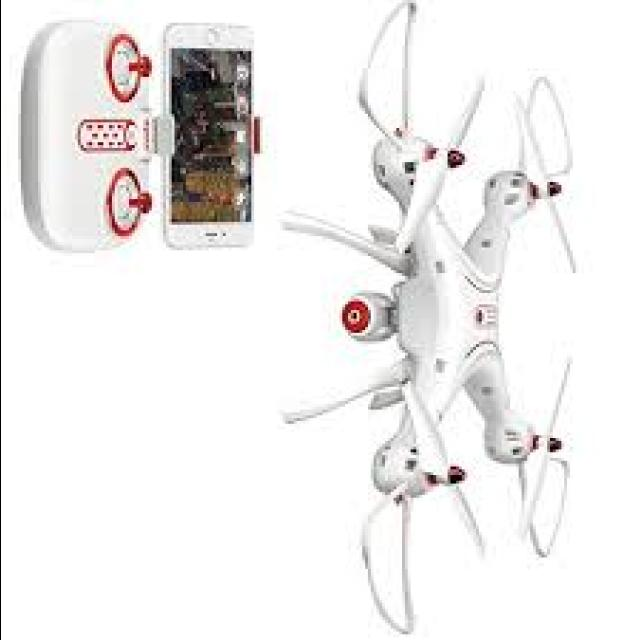drone: (279, 0, 592, 640)
